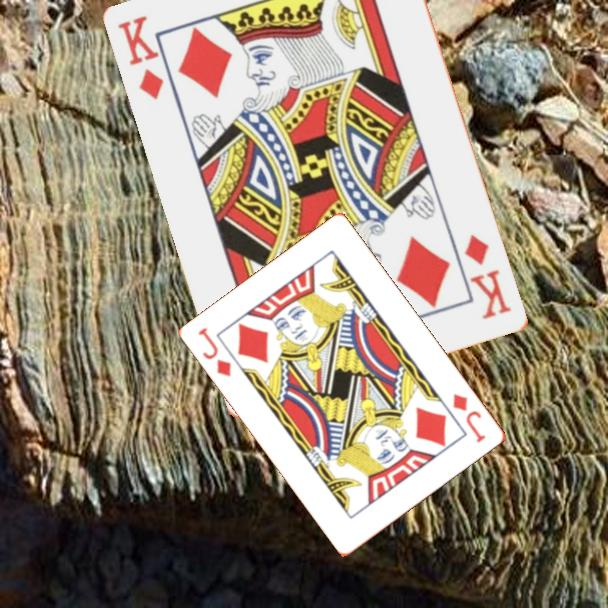d11: (195, 324, 235, 380), (450, 390, 489, 446)
d13: (461, 231, 515, 323), (114, 12, 167, 103)
